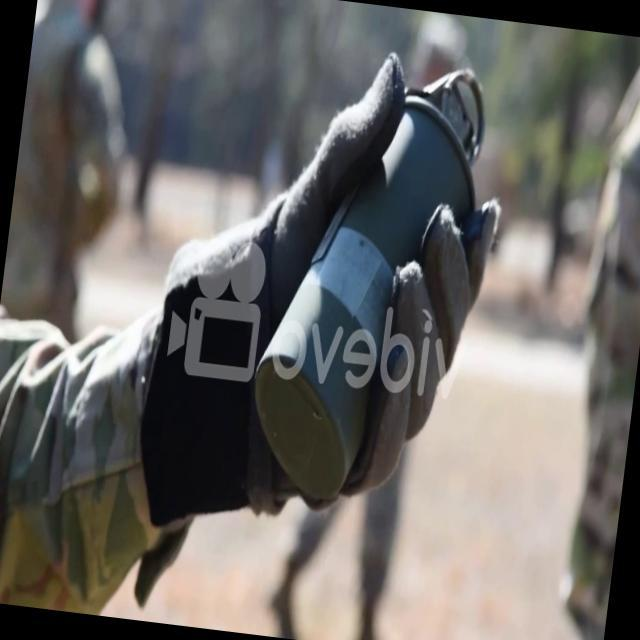grenade: (238, 40, 507, 526)
